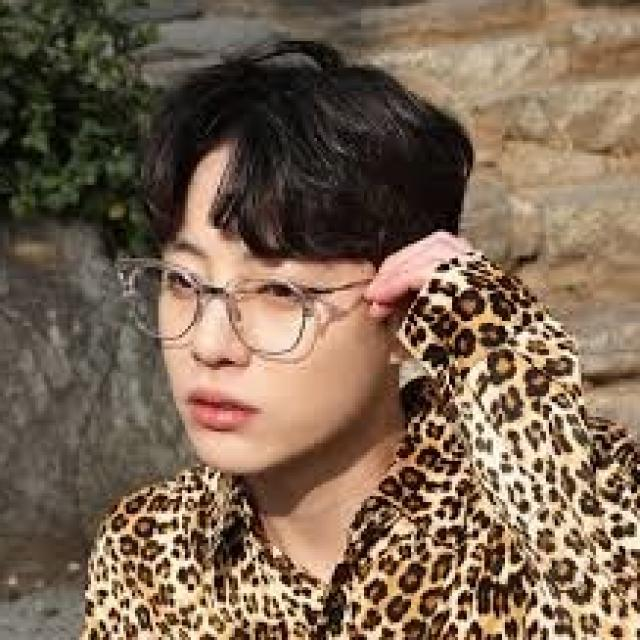Glasses: (106, 249, 391, 361)
